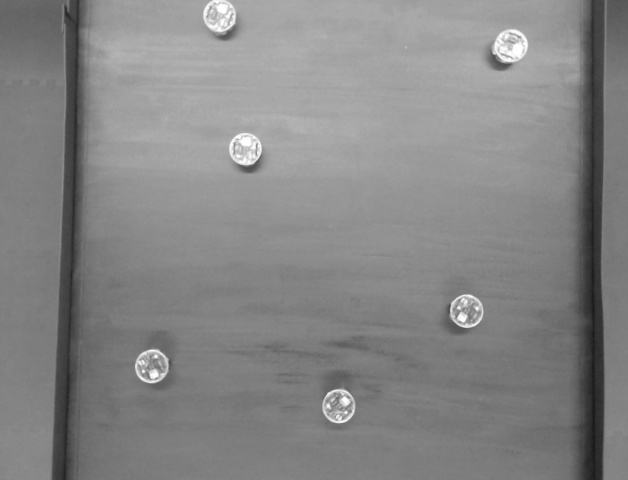epuck_2: (478, 20, 531, 67), (445, 290, 494, 337), (129, 344, 175, 391), (225, 127, 269, 175), (312, 387, 364, 426), (197, 1, 246, 40)
